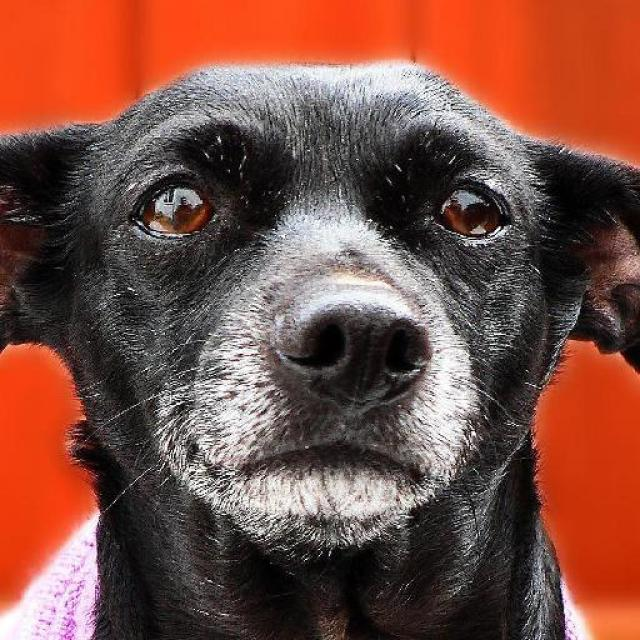sad: (0, 49, 640, 561)
